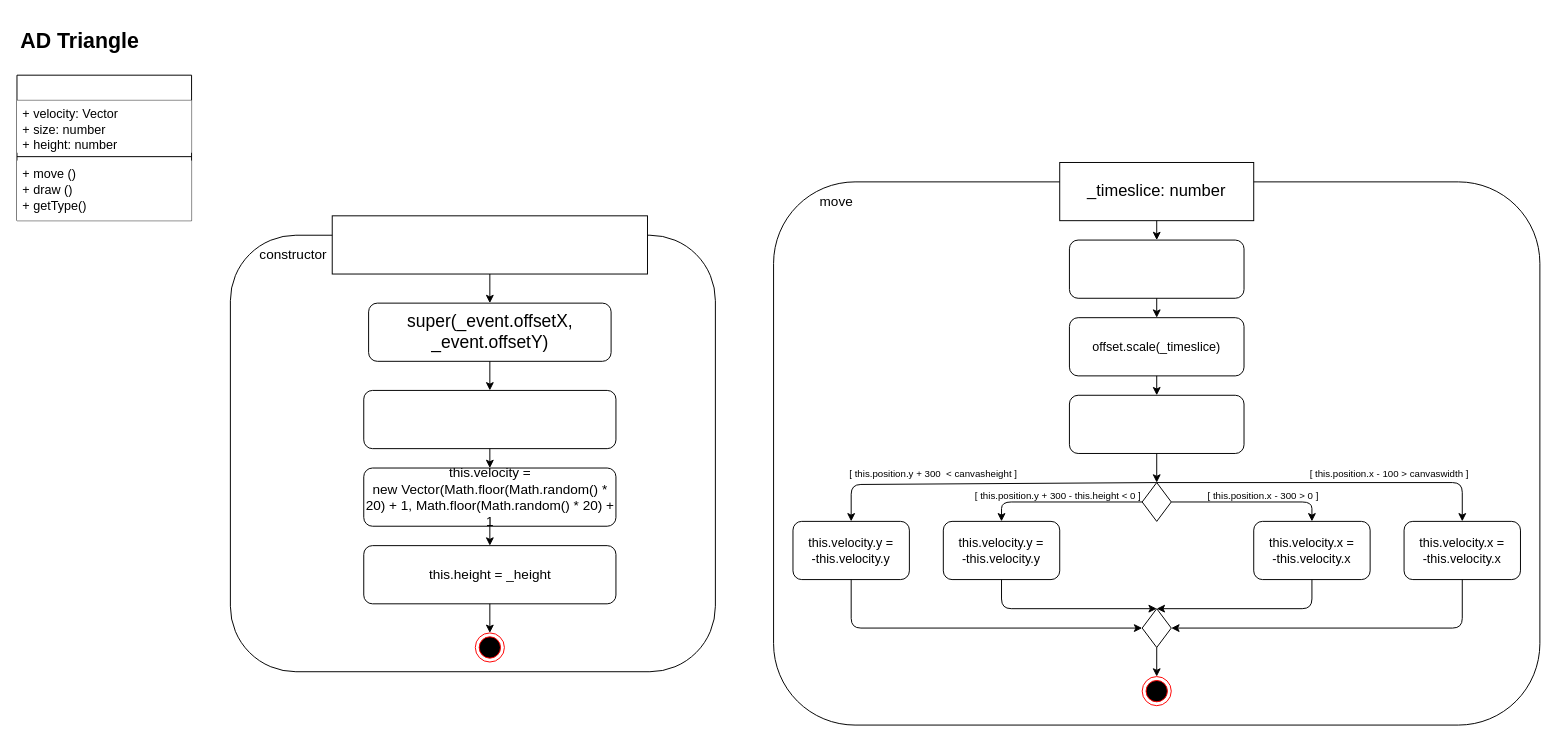
Image size: 1557x742. Some labels were removed from this diagram. The box of each missing label's shape, as (x1, y1, x2, y2) in pixels:
_event: MouseEvent, _height: number: (331, 215, 647, 274)
let offset: Vector = this.velocity.copy(): (1068, 239, 1244, 298)
this.position = new Vector(_event.offsetX + 200, _event.offsetY - 220): (363, 389, 616, 449)
this.position.add(offset): (1068, 394, 1244, 453)
Triangle: (16, 74, 192, 221)
